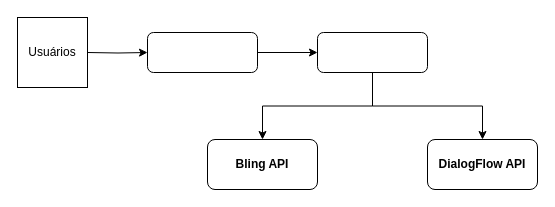
Some shapes in this 555 by 207 pixel diagram are drawn without their labels. The shapes that lost their labels are listed below. From the top down, each one's centre as x and y in pixels, then its label:
the point at 202,52: Frontend React.js
the point at 372,52: Backend Node.js
